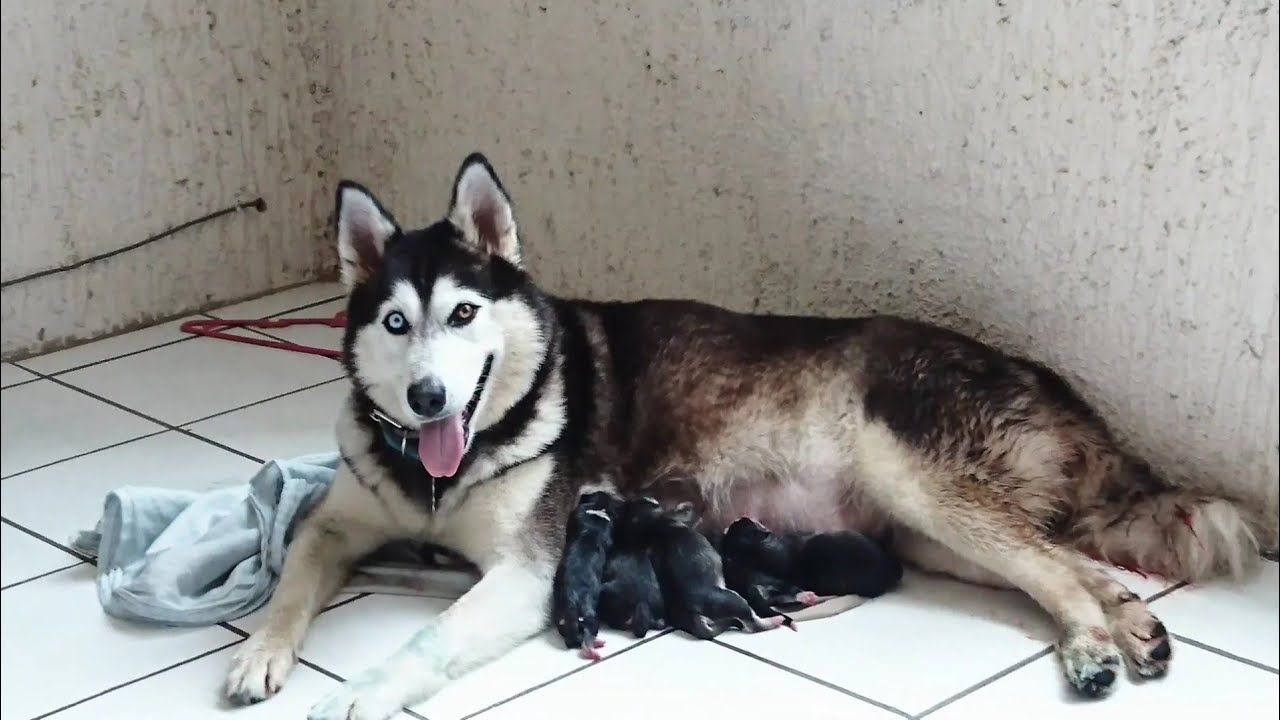husky: (191, 143, 1225, 718)
